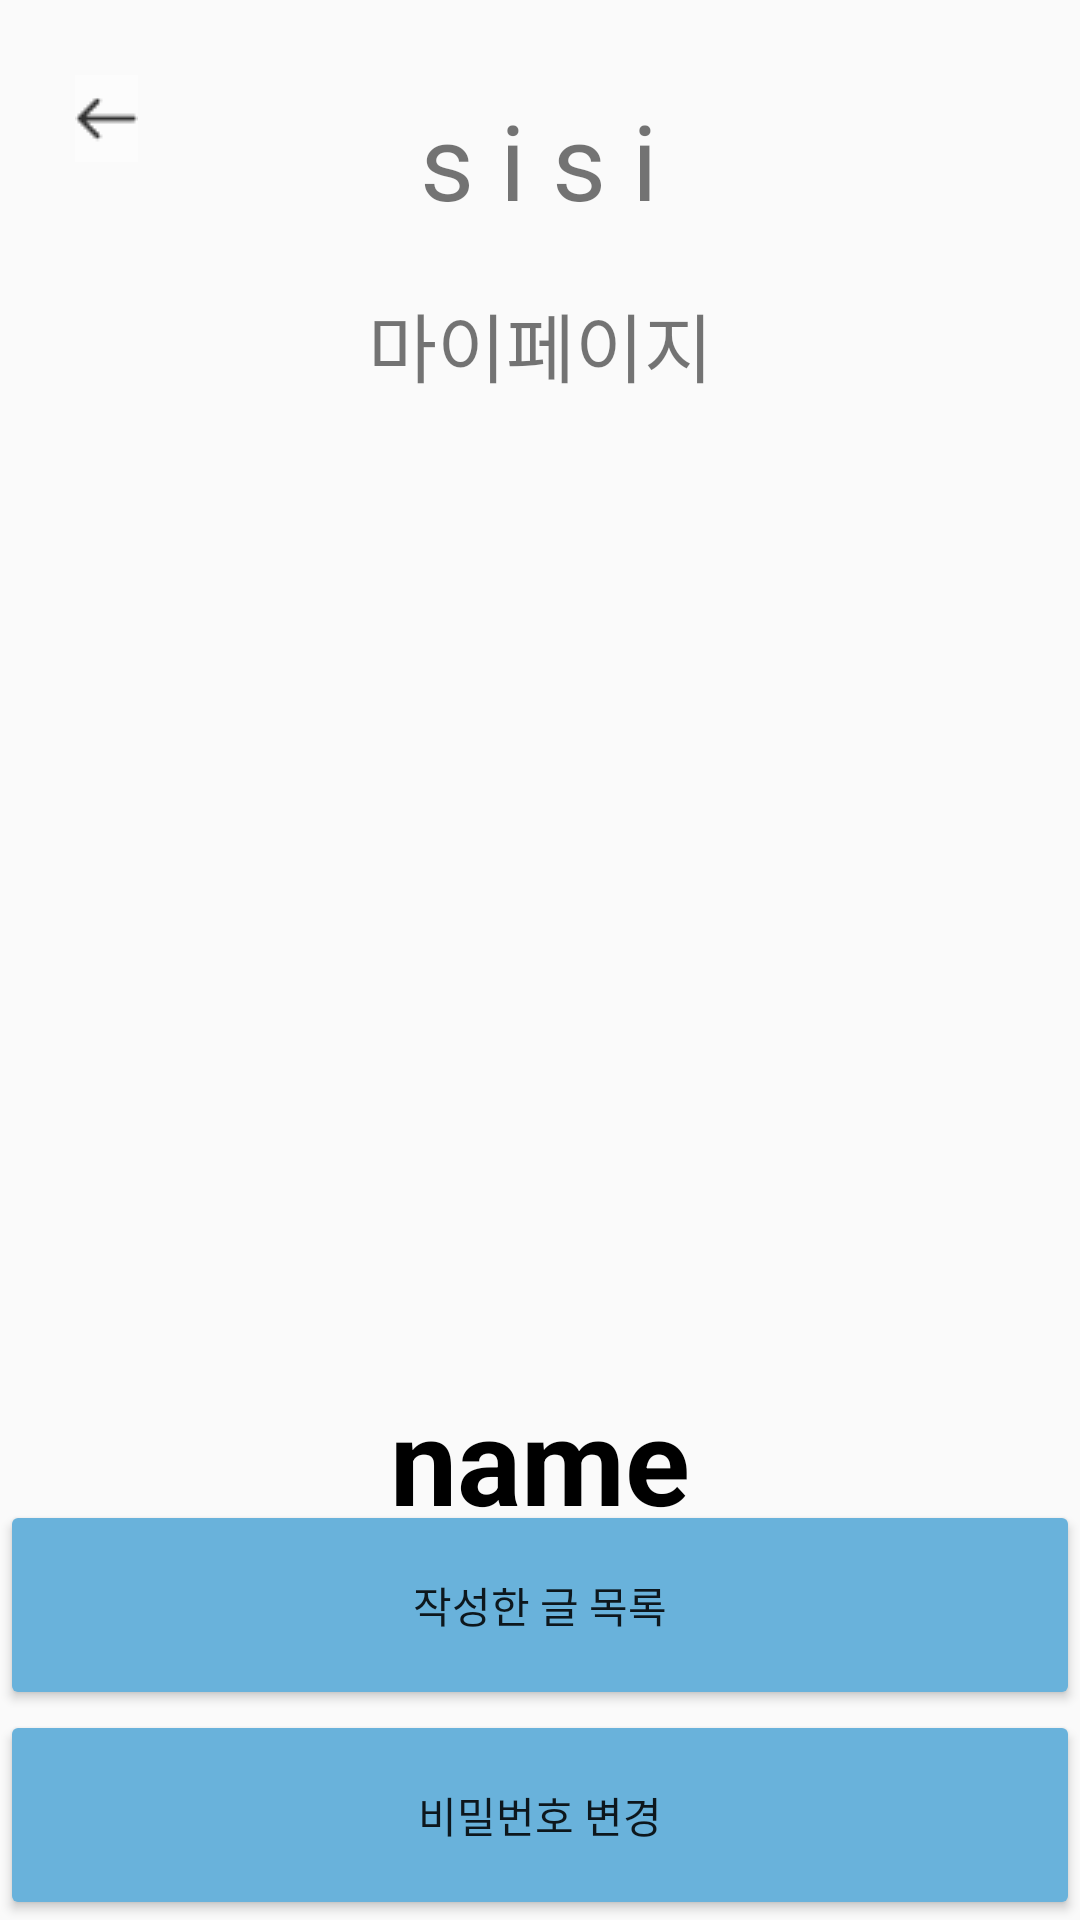

Where to tap for icons on this 1080w x 1920h app screen, as (x=x, y=y):
backarrow: (x=106, y=119)
